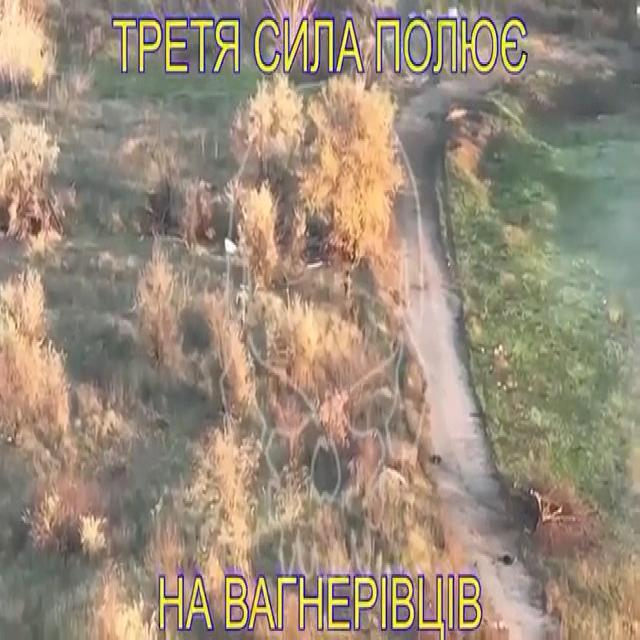MIL_Pax: (344, 267, 352, 298)
